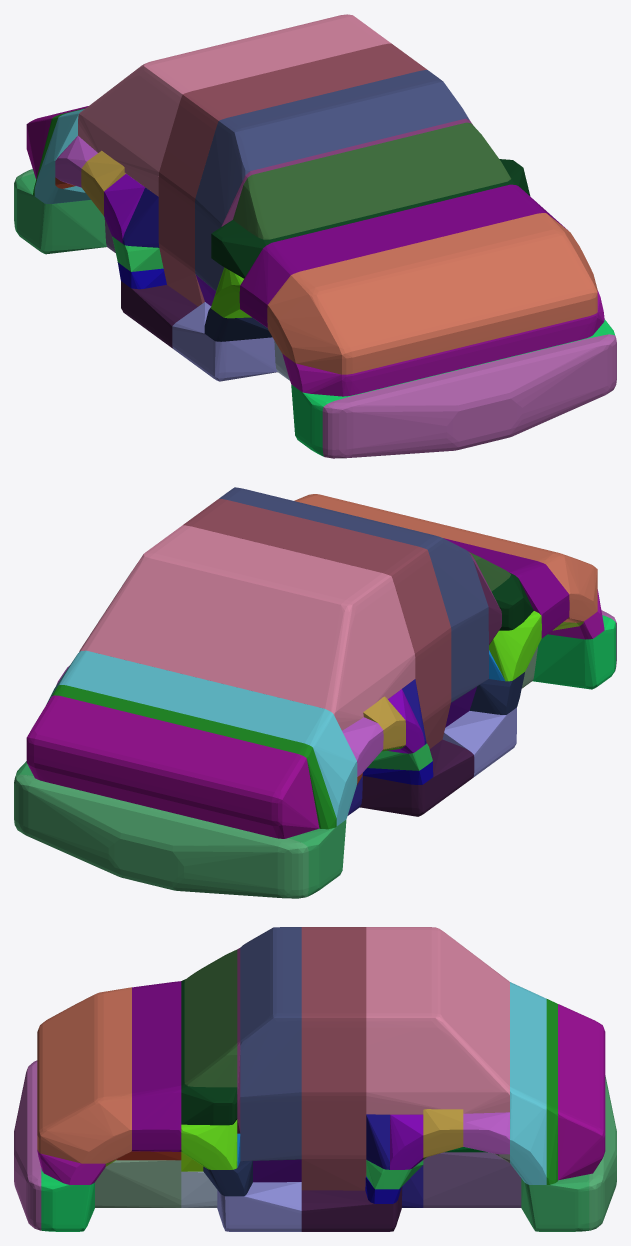
File: sedan-sports-bodyandspoiler-output2.obj
The picture shows the model from 3 angles, top to bottom: view 1: azimuth 30°, elevation 25°; view 2: azimuth 150°, elevation 25°; view 3: azimuth 270°, elevation 25°; orthographic projection. The views are drawn at different scales.
Parts seen in each view (by area): view 1: geometry_9, geometry_7, geometry_19, geometry_16, geometry_24, geometry_13, geometry_11, geometry_22, geometry_10, geometry_12, geometry_25, geometry_26 (+12 smaller); view 2: geometry_24, geometry_14, geometry_3, geometry_13, geometry_2, geometry_16, geometry_9, geometry_8, geometry_26, geometry_23, geometry_11, geometry_12 (+12 smaller); view 3: geometry_24, geometry_13, geometry_9, geometry_16, geometry_11, geometry_14, geometry_2, geometry_19, geometry_1, geometry_0, geometry_26, geometry_12 (+20 smaller).
Boxes of the visible parts, x1,y1,x2,y2 form: geometry_9: (267,213,597,374); geometry_7: (322,334,616,458); geometry_19: (233,122,511,239); geometry_16: (195,70,469,291); geometry_24: (78,14,390,196); geometry_13: (158,43,427,306); geometry_11: (239,184,567,327); geometry_22: (282,290,604,396); geometry_10: (14,173,106,254); geometry_12: (172,302,277,381); geometry_25: (211,159,530,278); geometry_26: (121,281,197,348); geometry_24: (79,525,415,730); geometry_14: (26,695,319,838); geometry_3: (14,774,308,898); geometry_13: (183,498,451,748); geometry_2: (46,650,357,825); geometry_16: (219,487,488,702); geometry_9: (294,494,597,622); geometry_8: (52,685,336,829); geometry_26: (360,739,474,816); geometry_23: (532,615,616,689); geometry_11: (443,538,569,638); geometry_12: (442,707,516,777); geometry_24: (366,927,509,1114); geometry_13: (301,927,366,1190); geometry_9: (37,987,131,1163); geometry_16: (240,927,301,1161); geometry_11: (132,981,181,1151); geometry_14: (558,1004,605,1180); geometry_2: (510,982,546,1184); geometry_19: (184,949,237,1087); geometry_1: (423,1152,521,1207); geometry_0: (95,1160,181,1207); geometry_26: (301,1187,401,1231); geometry_12: (217,1182,301,1231).
Bounding box in the file's own units: 1.33 × 0.978 × 2.58.
